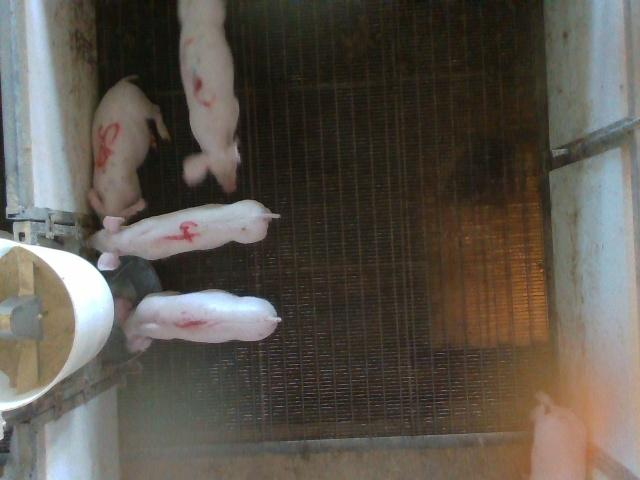pig-1: (116, 290, 281, 352)
pig-3: (179, 0, 240, 192)
pig-4: (89, 200, 280, 271)
pig-5: (89, 75, 170, 219)
